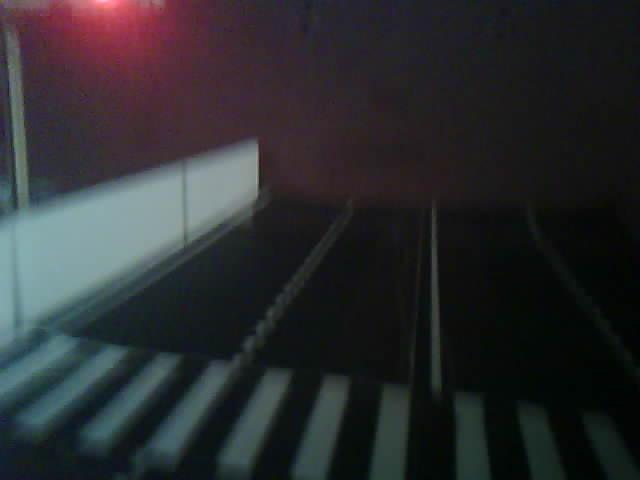crosswalk: (1, 283, 640, 480)
red: (3, 0, 236, 98)
